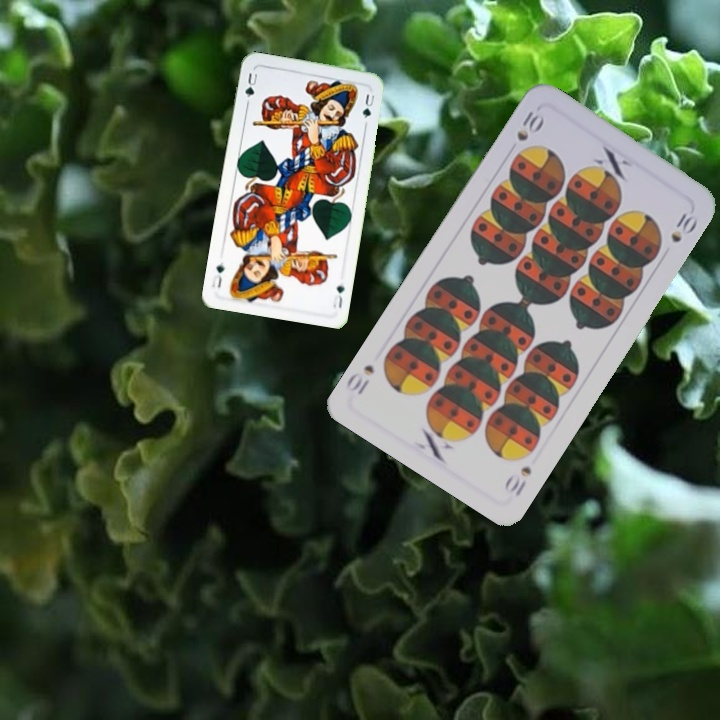GU: (241, 69, 260, 107), (329, 281, 347, 311)
S10: (512, 107, 548, 144), (500, 462, 534, 499)
